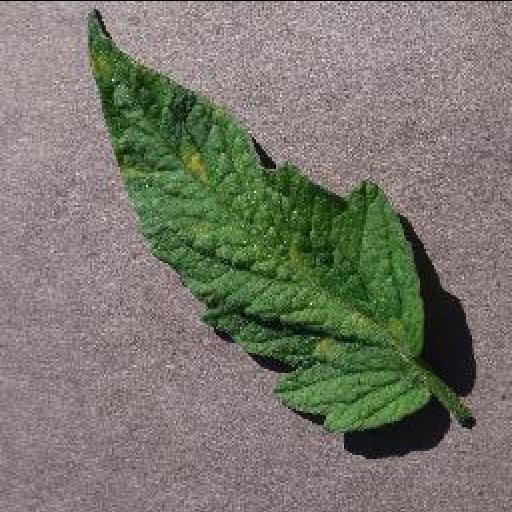disease_tomato: (84, 9, 428, 433)
